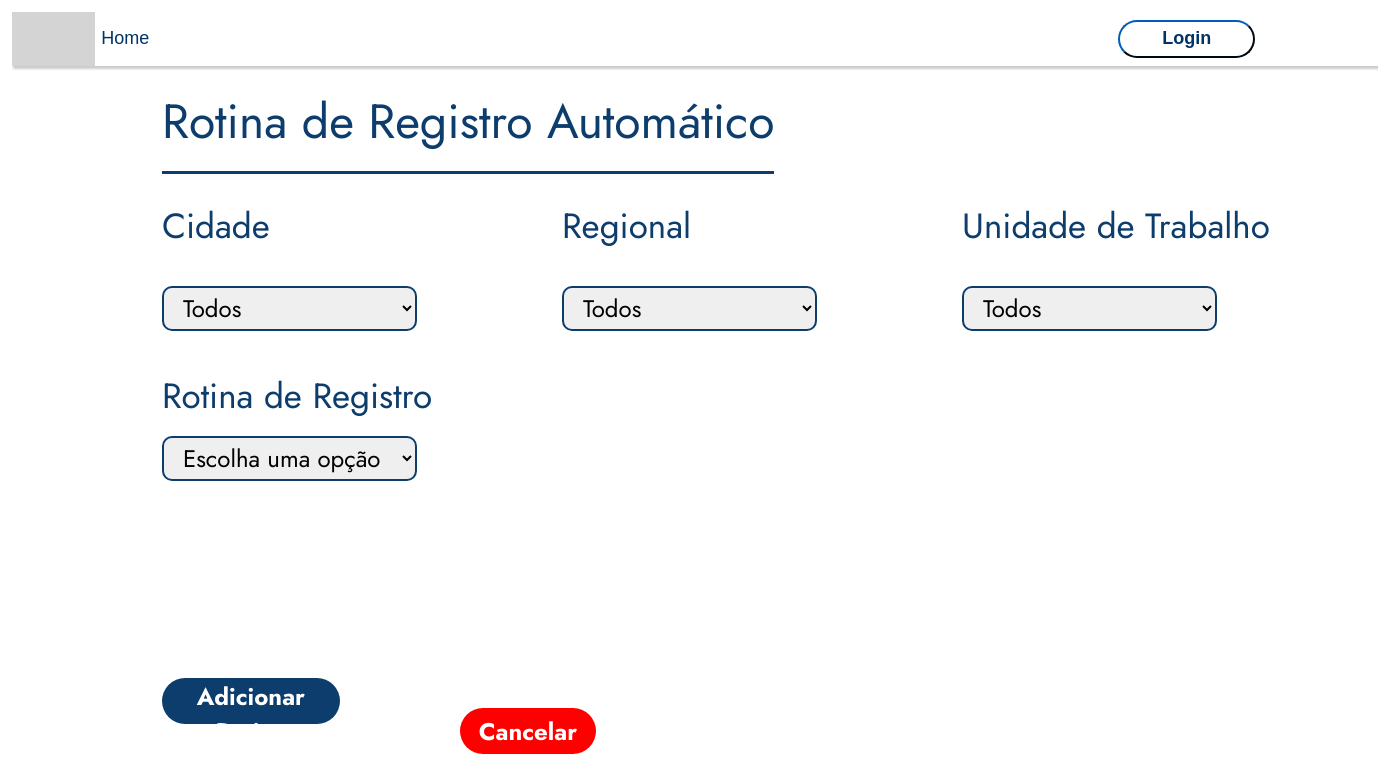
it: UpdateRoutine › should remove error when at least one day is selected
This screenshot has width=1378, height=780.
Select "Semanalmente" in the dropdown labelled "Rotina de Registro" at (290, 458), box [162,436,417,481]
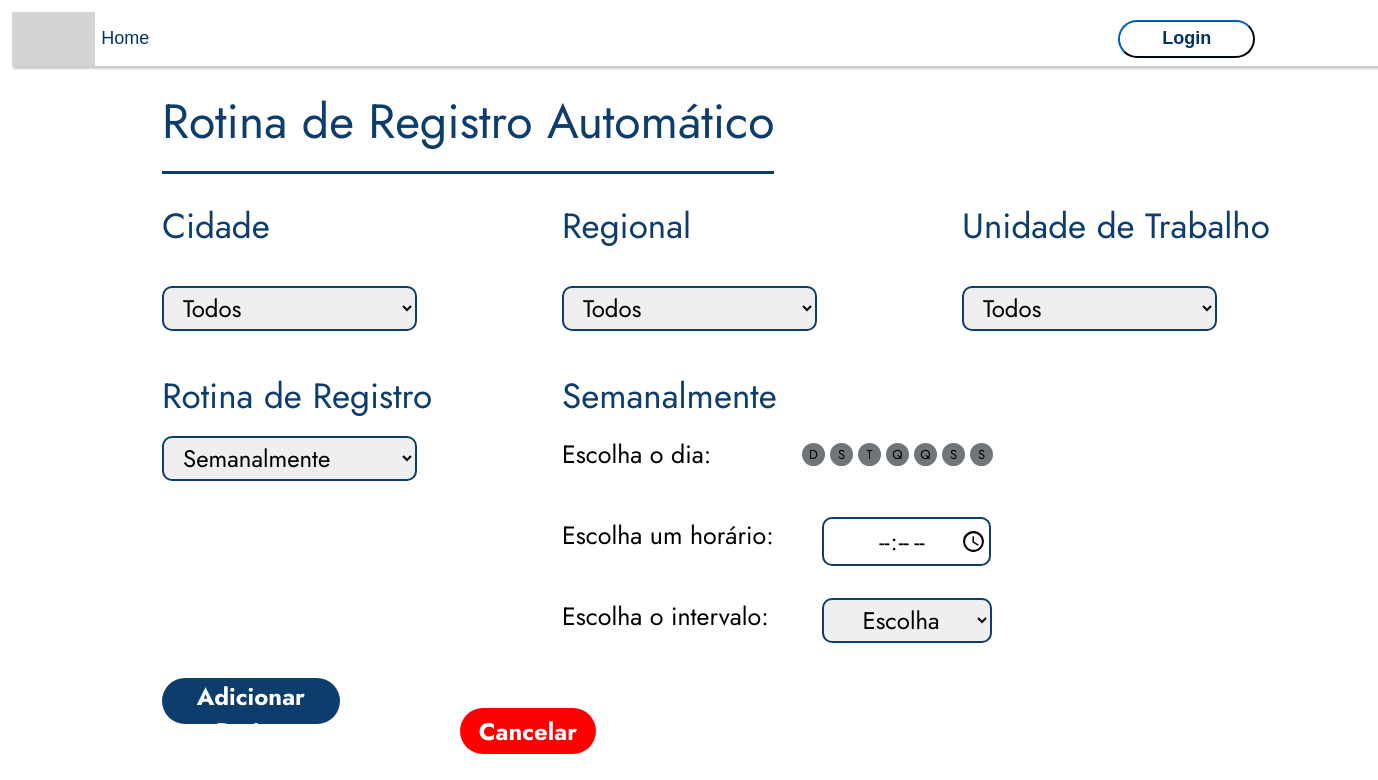
Click the button "Adicionar Rotina" at (251, 701), box [162,678,340,724]
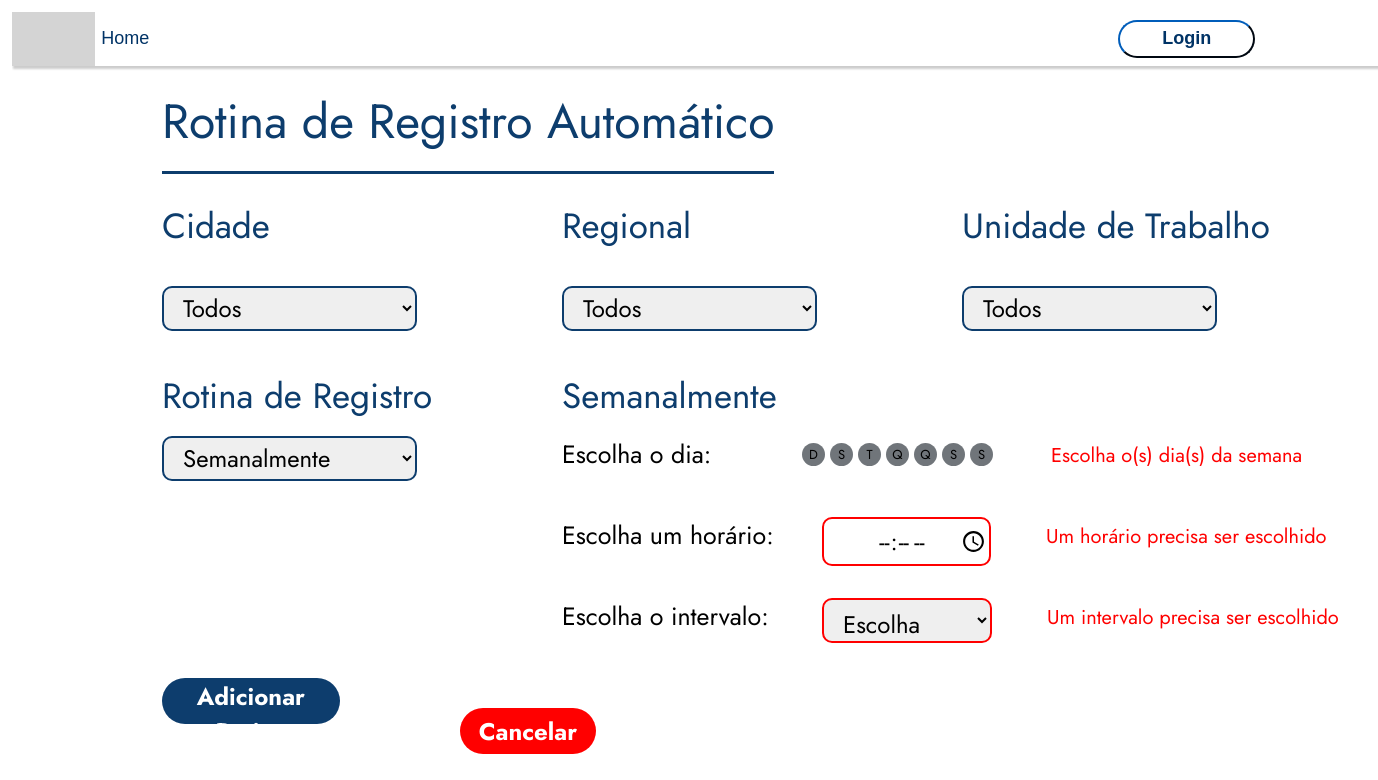
expect the text "Escolha o(s) dia(s) da semana" is shown: met, box [1051,441,1302,470]
Click the checkbox "D" at (814, 454), box [802,443,825,466]
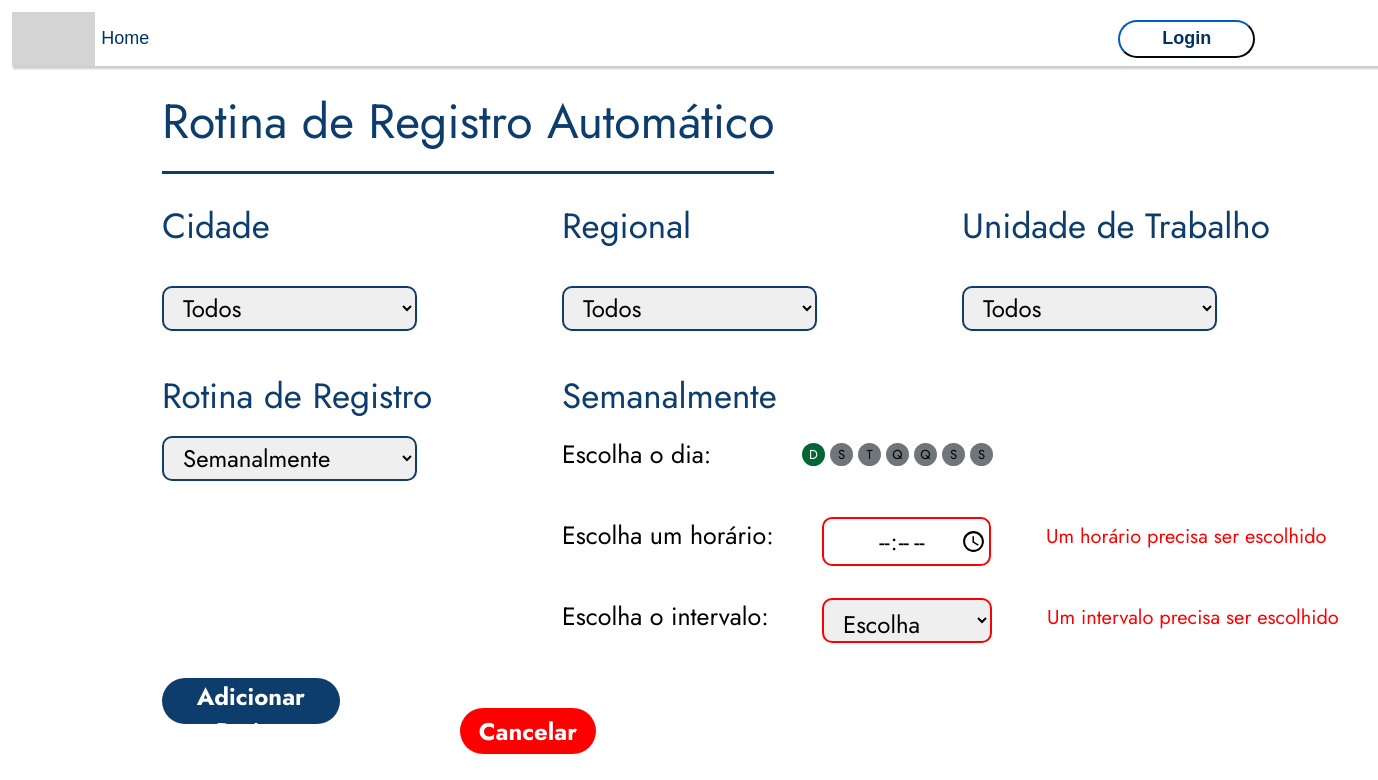
expect the text "Escolha o(s) dia(s) da semana" is gone: met
